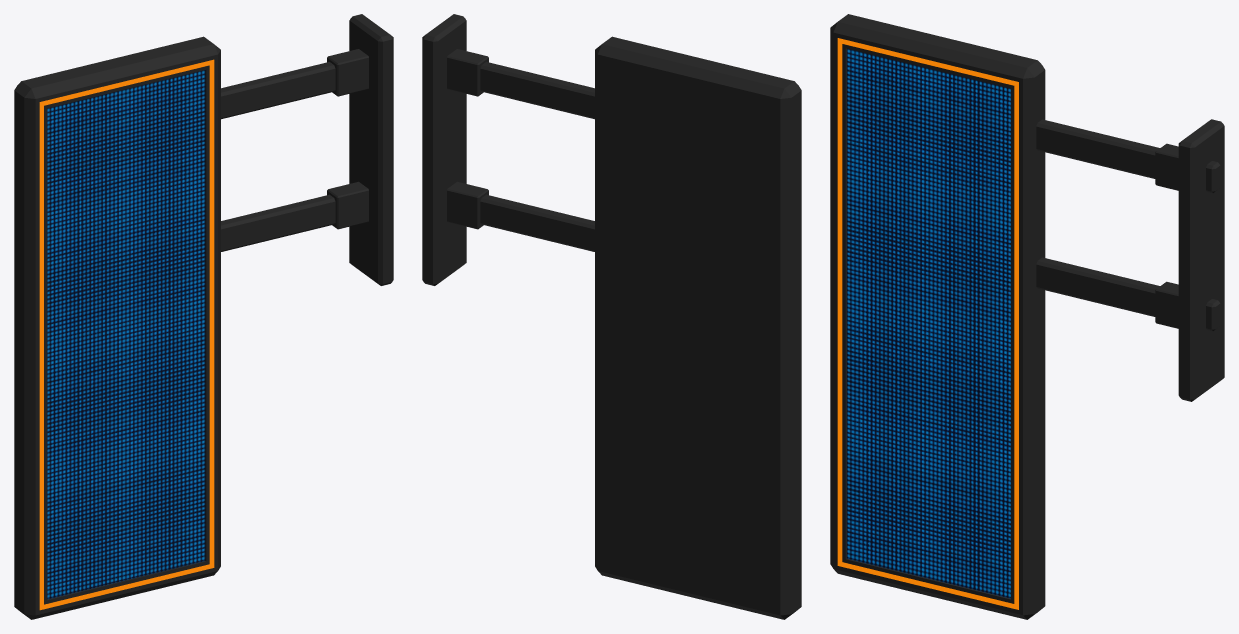
File: cpunk_s01x.fbx
The picture shows the model from 3 angles, left to right: view 1: azimuth 30°, elevation 25°; view 2: azimuth 150°, elevation 25°; view 3: azimuth 330°, elevation 25°; orthographic projection. The views are drawn at different scales.
Visible parts, largest first — view 1: LEDn0000, Body, Holder; view 2: Body, Holder; view 3: LEDn0000, Body, Holder.
Part boxes in pixels (left/top/right/bottom): LEDn0000: left=47, top=70, right=205, bottom=599; Body: left=14, top=36, right=335, bottom=619; Holder: left=327, top=14, right=393, bottom=285; Body: left=480, top=36, right=801, bottom=619; Holder: left=422, top=14, right=488, bottom=285; LEDn0000: left=847, top=48, right=1010, bottom=598; Body: left=830, top=14, right=1220, bottom=619; Holder: left=1155, top=119, right=1224, bottom=401.
Bounding box in the file's own units: 232 × 320 × 35.
